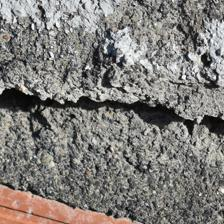Crack: (1, 37, 222, 106)
